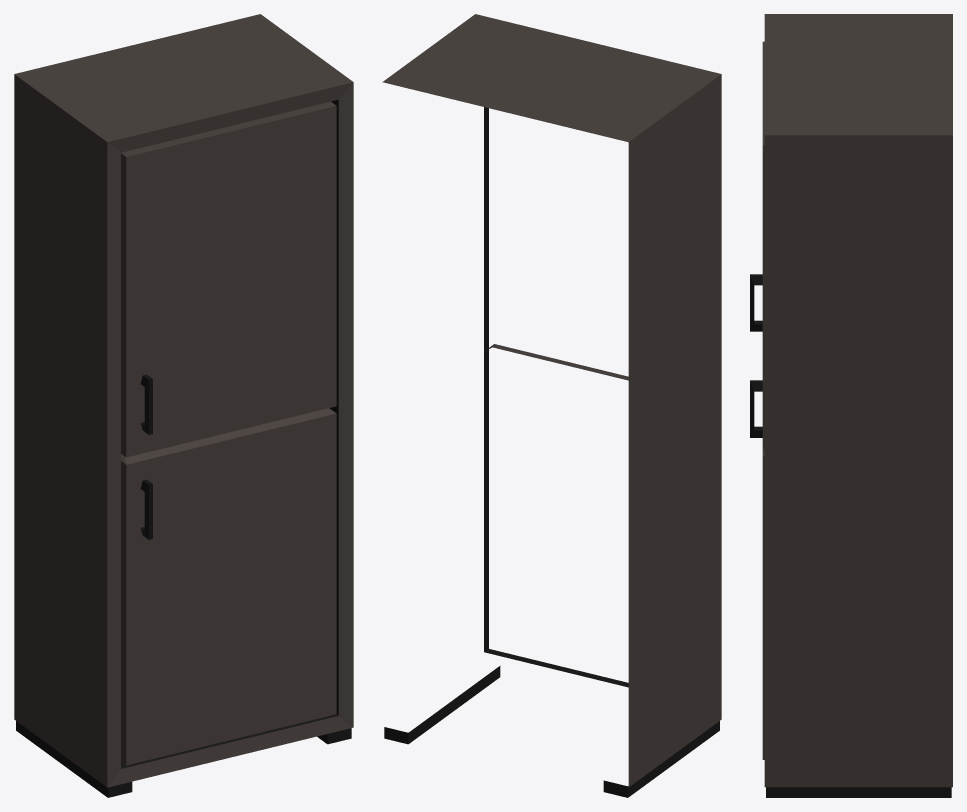
File: Heavylocker.glb
3 renders of one model, left to right at view 1: azimuth 30°, elevation 25°; view 2: azimuth 150°, elevation 25°; view 3: azimuth 270°, elevation 25°, orthographic.
Visible parts, largest first — view 1: heavyLocker; view 2: heavyLocker; view 3: heavyLocker.
Boxes of the visible parts, box(x1,y1,x2,y2) form: heavyLocker: box(14, 14, 353, 797); heavyLocker: box(382, 14, 721, 797); heavyLocker: box(750, 14, 952, 797).
Bounding box in the file's own units: 0.8256 × 2.1 × 0.5829.
1 material, 1 textured.
